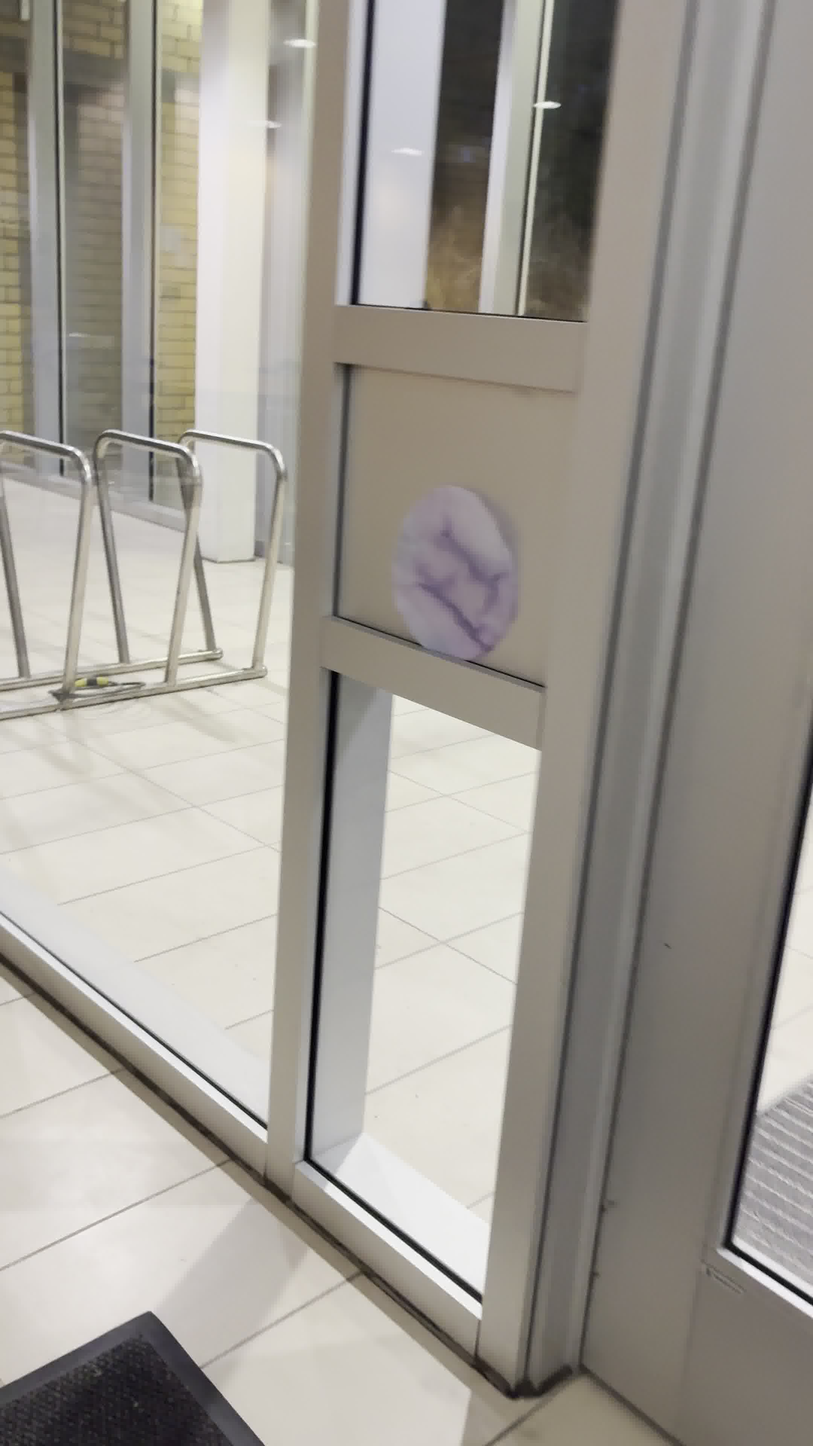Target: (384, 472, 531, 667)
